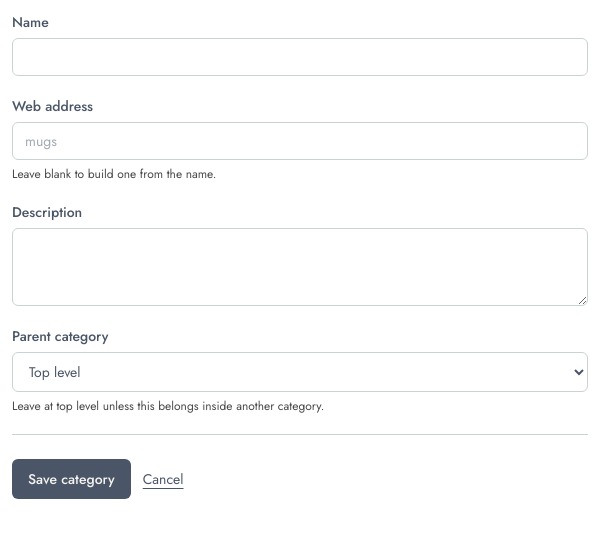
Test case: CategoryForm, when a save is rejected › keeps what was typed and chosen
The image size is (605, 538).
Type "Jugs" into the field labelled "Name".
click(300, 57); type("Jugs")  # box x1=12 y1=38 x2=588 y2=76
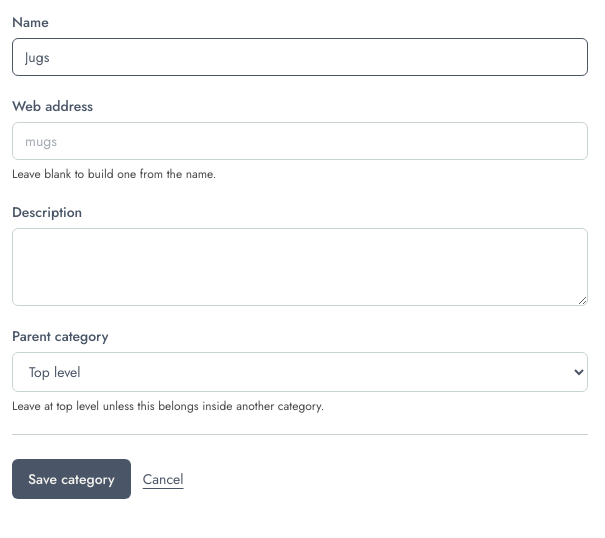
Type "For milk and flowers." into the text box labelled "Description".
click(300, 267); type("For milk and flowers.")  # box x1=12 y1=228 x2=588 y2=306
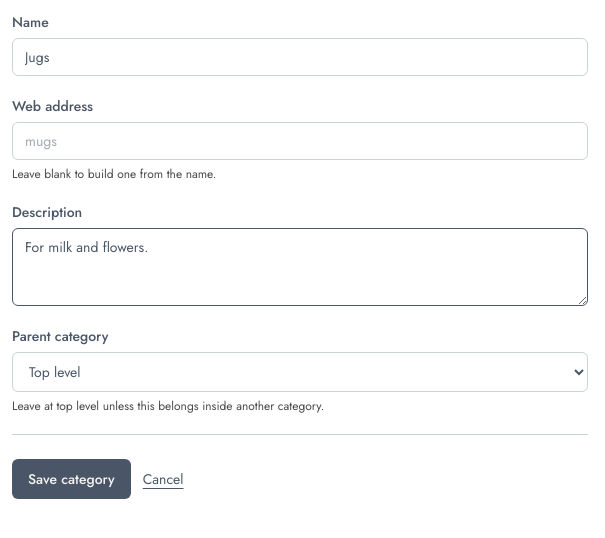
Select "Tableware" in the dropdown labelled "Parent category" at (300, 372), box x1=12 y1=352 x2=588 y2=392
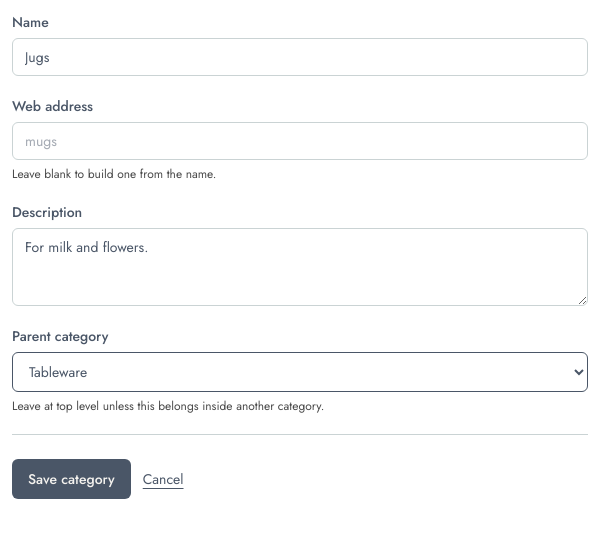
Click the button "Save category".
click(71, 479)  # box x1=12 y1=459 x2=131 y2=499
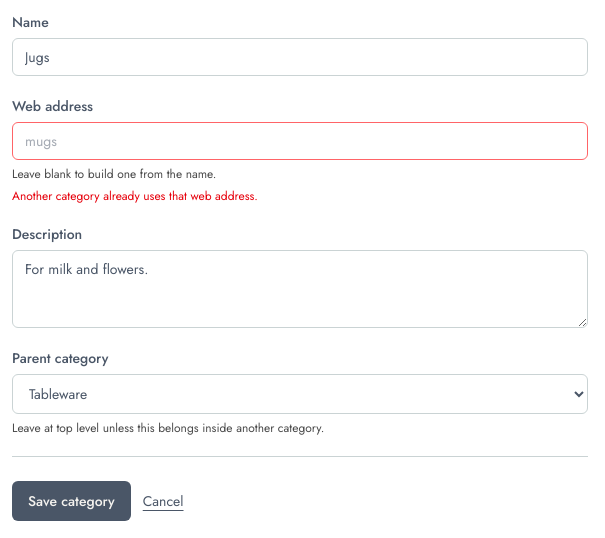
Expected: the text "Another category already uses that web address." is shown, x1=12 y1=187 x2=258 y2=205
